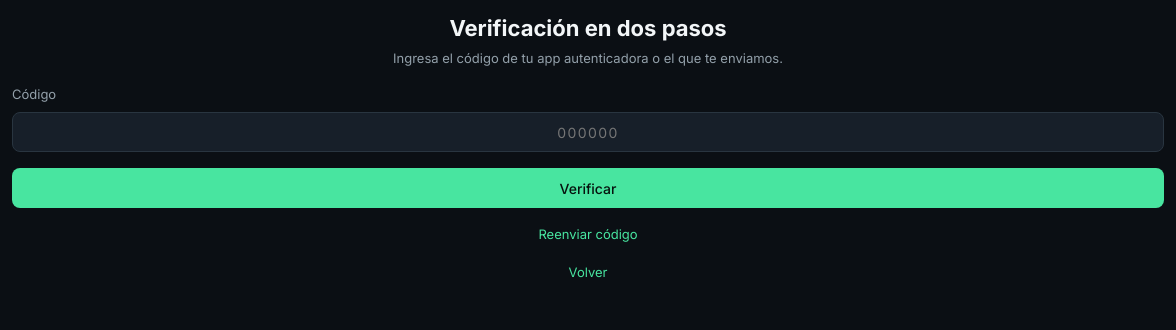
Test: TwoFactorChallenge.vue › un reenvío rechazado (ej. 429 too_many_attempts) muestra el error real
This screenshot has width=1176, height=330.
Click the button "Reenviar código" at [588, 235], box [532,224,644,246]
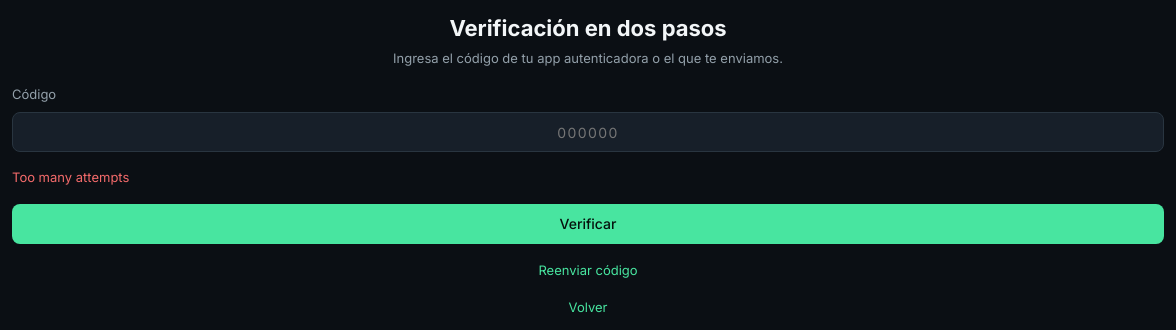
Now the text "Too many attempts" is shown, box [12,169,129,185]
